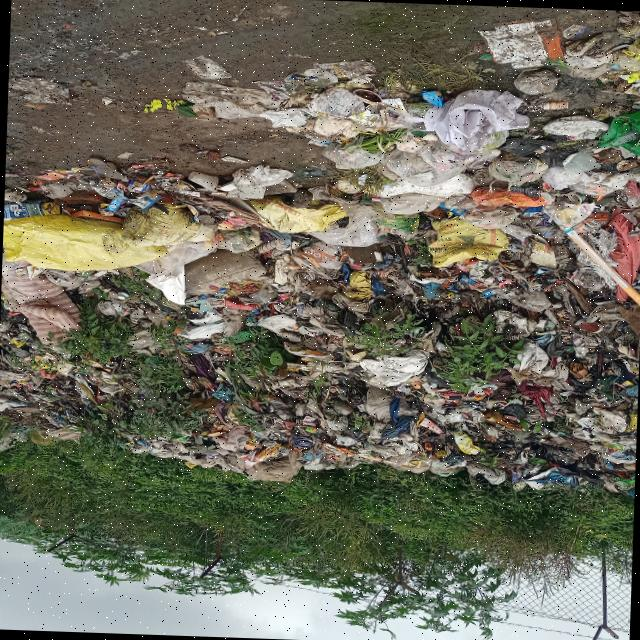garbage: (333, 43, 640, 481), (0, 171, 394, 482)
